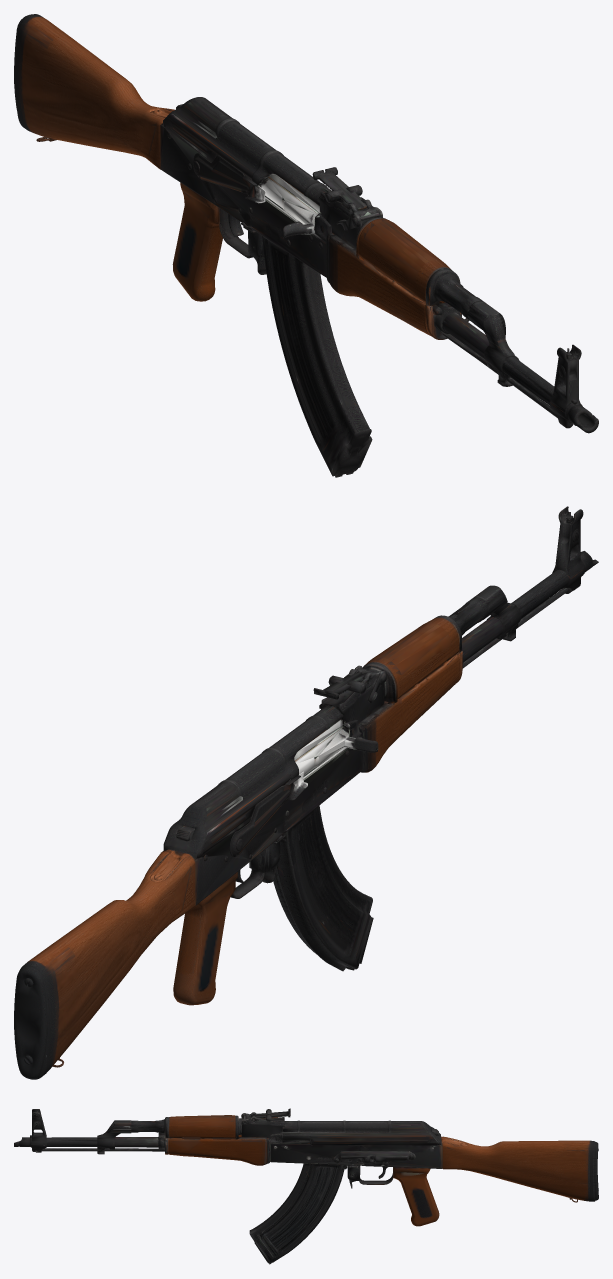
Rendered from Meshy_AI__0310164930_texture.glb.
The picture shows the model from 3 angles, top to bottom: view 1: azimuth 30°, elevation 25°; view 2: azimuth 150°, elevation 25°; view 3: azimuth 270°, elevation 25°; orthographic projection. The views are drawn at different scales.
Bounding box in the file's own units: 0.1508 × 0.5743 × 2.
Materials: 1 (1 with a texture image).
